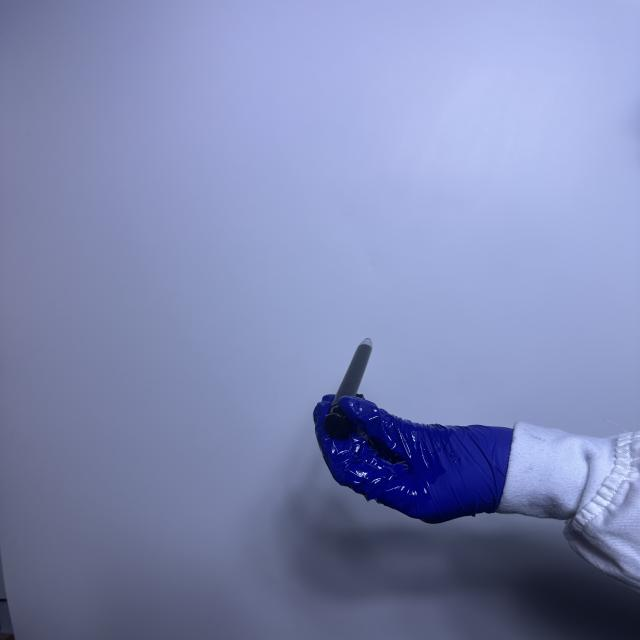gloves_contaminated: (314, 394, 512, 524)
